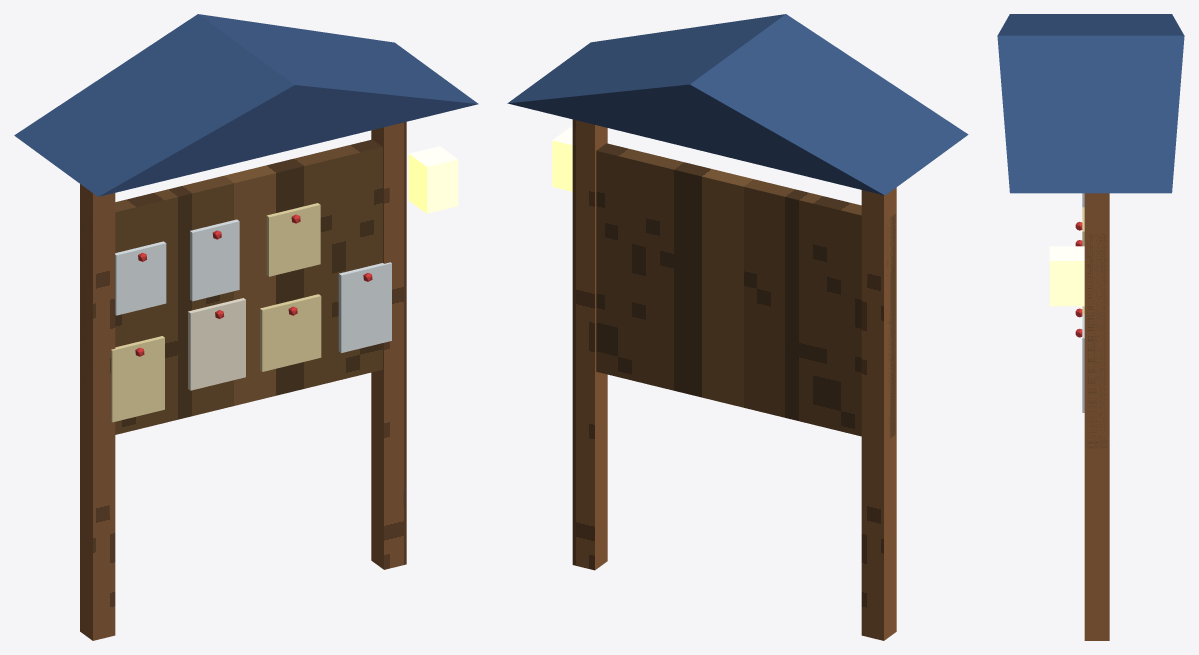
Rendered from noticeboard.glb.
The picture shows the model from 3 angles, left to right: view 1: azimuth 30°, elevation 25°; view 2: azimuth 150°, elevation 25°; view 3: azimuth 270°, elevation 25°; orthographic projection. The views are drawn at different scales.
Parts seen in each view (by area): view 1: noticeboard; view 2: noticeboard; view 3: noticeboard.
Boxes of the visible parts, bbox=[...] form: noticeboard: bbox=[14, 14, 478, 640]; noticeboard: bbox=[507, 14, 968, 640]; noticeboard: bbox=[997, 14, 1184, 640].
Size of the model in its own units: 1.7 by 2.35 by 0.75.
12 materials, 2 textured.
